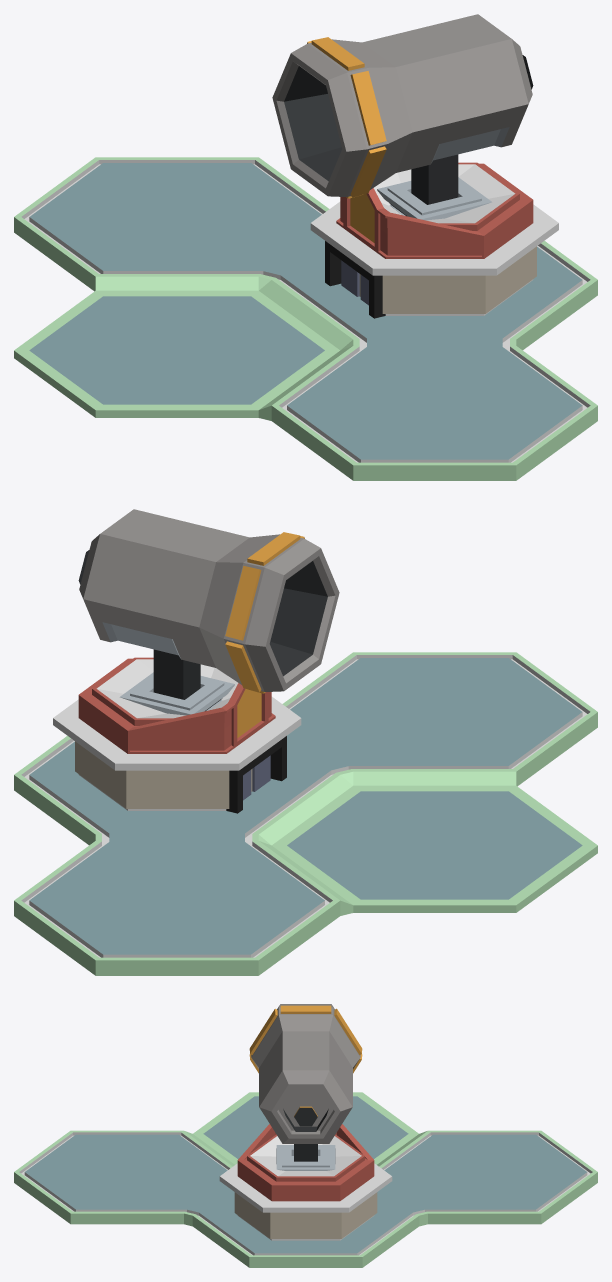
File: lingshou canoncanon(1).fbx
3 views of the same model, one above another, from view 1: azimuth 30°, elevation 25°; view 2: azimuth 150°, elevation 25°; view 3: azimuth 270°, elevation 25° (orthographic). The views are drawn at different scales.
Parts seen in each view (by area): view 1: 柱体.013, Cylinder, Cylinder.002; view 2: 柱体.013, Cylinder, Cylinder.002; view 3: 柱体.013, Cylinder, Cylinder.002.
Boxes of the visible parts, x1=… form: 柱体.013: x1=14, y1=157, x2=597, y2=480; Cylinder: x1=272, y1=14, x2=533, y2=198; Cylinder.002: x1=411, y1=154, x2=458, y2=204; 柱体.013: x1=14, y1=652, x2=597, y2=975; Cylinder: x1=78, y1=509, x2=339, y2=693; Cylinder.002: x1=153, y1=649, x2=200, y2=699; 柱体.013: x1=14, y1=1092, x2=597, y2=1267; Cylinder: x1=249, y1=1004, x2=362, y2=1143; Cylinder.002: x1=294, y1=1144, x2=317, y2=1161.
Size of the model in its own units: 338 by 172 by 490.
